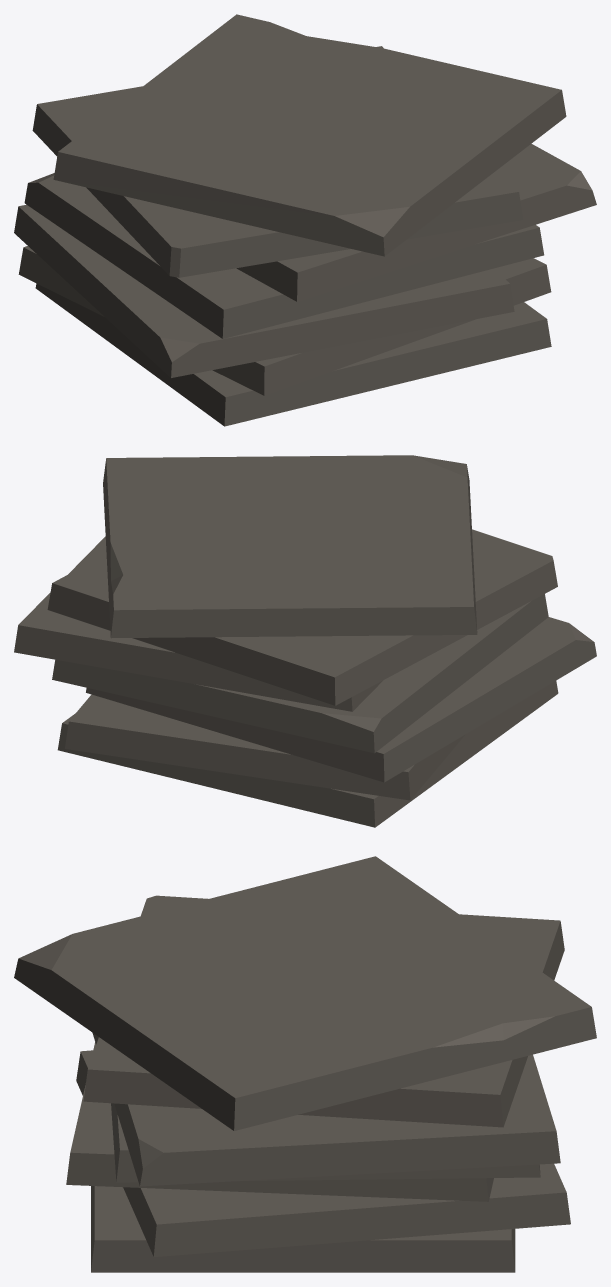
Rendered from SM_Prop_Tile_Stack_02.glb.
3 views of the same model, one above another, from view 1: azimuth 30°, elevation 25°; view 2: azimuth 150°, elevation 25°; view 3: azimuth 270°, elevation 25° (orthographic). The views are drawn at different scales.
Parts seen in each view (by area): view 1: SM_Prop_Tile_Stack_02; view 2: SM_Prop_Tile_Stack_02; view 3: SM_Prop_Tile_Stack_02.
Boxes of the visible parts, x1,y1,x2,y2 form: SM_Prop_Tile_Stack_02: [14, 14, 596, 426]; SM_Prop_Tile_Stack_02: [14, 455, 596, 827]; SM_Prop_Tile_Stack_02: [14, 856, 596, 1272].
Bounding box in the file's own units: 0.6912 × 0.28 × 0.6868.
Materials: 1 (1 with a texture image).
